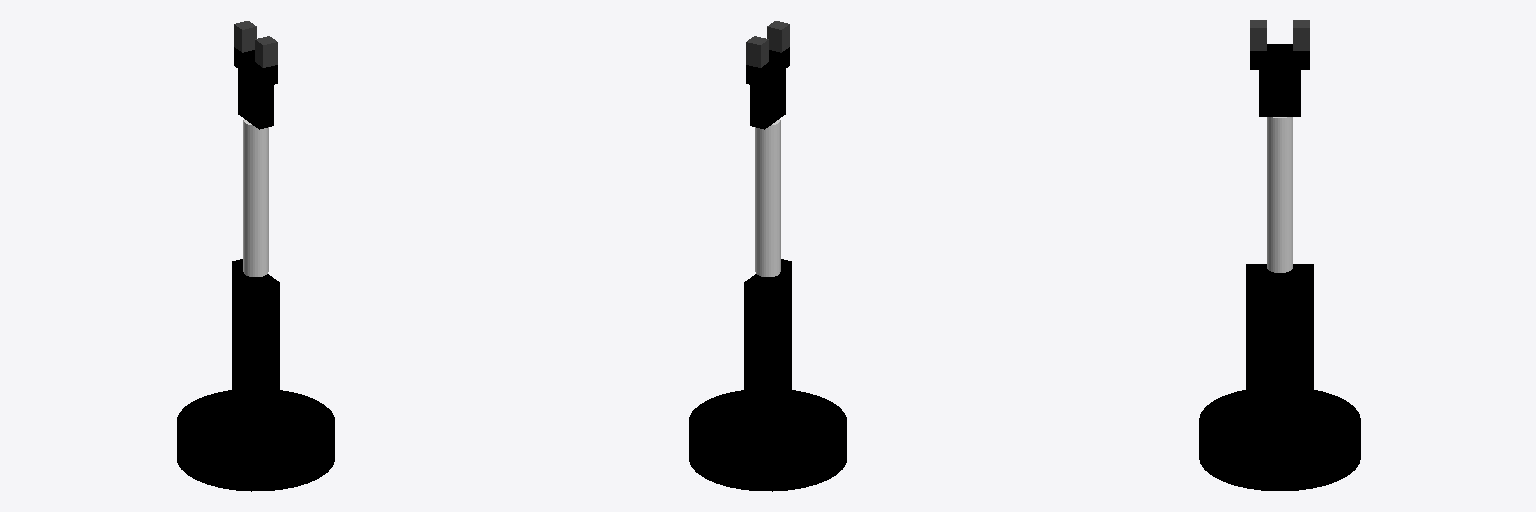
The robot description file, URDF, robot "al5d":
<?xml version="1.0"?>

<robot name="al5d">
    <static>false</static>

    <gazebo>
      <plugin name="gazebo_grasp_fix" filename="libgazebo_grasp_fix.so">
        <arm>
           <arm_name>al5d</arm_name>
           <palm_link> hand  </palm_link>
           <gripper_link> gripper_left </gripper_link>
           <gripper_link> gripper_right </gripper_link>
        </arm>
        <forces_angle_tolerance>90</forces_angle_tolerance>
        <update_rate>100</update_rate>
        <grip_count_threshold>1</grip_count_threshold>
        <max_grip_count>2</max_grip_count>
        <release_tolerance>0.005</release_tolerance>
        <disable_collisions_on_attach>false</disable_collisions_on_attach>
        <contact_topic>__default_topic__</contact_topic>
      </plugin>
    </gazebo>

    <!-- Link1 -->
    <gazebo reference="base_link">
        <material>Gazebo/Gold</material>
        <selfCollide>true</selfCollide>
        <gravity>false</gravity>
    </gazebo>

    <!-- Link2 -->
    <gazebo reference="turret">
        <mu1>0.2</mu1>
        <mu2>0.2</mu2>
        <selfCollide>true</selfCollide>
        <material>Gazebo/Black</material>
    </gazebo>

    <!-- Link3 -->
    <gazebo reference="upperarm">
        <mu1>0.2</mu1>
        <mu2>0.2</mu2>
        <selfCollide>true</selfCollide>
        <material>Gazebo/Black</material>
    </gazebo>

    <gazebo reference="forearm">
        <mu1>0.2</mu1>
        <mu2>0.2</mu2>
        <selfCollide>true</selfCollide>
        <material>Gazebo/Gold</material>
    </gazebo>

    <gazebo reference="wrist">
        <mu1>0.2</mu1>
        <mu2>0.2</mu2>
        <selfCollide>true</selfCollide>
        <material>Gazebo/Black</material>
    </gazebo>

    <gazebo reference="hand">
        <mu1>0.2</mu1>
        <mu2>0.2</mu2>
        <selfCollide>true</selfCollide>
        <material>Gazebo/Black</material>
    </gazebo>

    <gazebo reference="gripper_left">
        <mu1>0.2</mu1>
        <mu2>0.2</mu2>
        <selfCollide>true</selfCollide>
        <material>Gazebo/Gold</material>
    </gazebo>

    <gazebo reference="gripper_right">
        <mu1>0.2</mu1>
        <mu2>0.2</mu2>
        <selfCollide>true</selfCollide>
        <material>Gazebo/Gold</material>
    </gazebo>

    <gazebo reference="base_link2turret">
        <fudgeFactor value="0"/>
    </gazebo>

    <gazebo reference="turret2upperarm">
        <fudgeFactor value="0"/>
    </gazebo>

    <gazebo reference="upperarm2forearm">
        <fudgeFactor value="0"/>
    </gazebo>

    <gazebo reference="forearm2wrist">
        <fudgeFactor value="0"/>
    </gazebo>

    <link name="base_link">
        <visual>
            <geometry>
                <cylinder length="0.04" radius="0.095"/>
            </geometry>
            <material name="black">
                <color rgba="0 0 0 1"/>
            </material>
            <origin xyz="0 0 0.02" rpy="0 0 0"/>
        </visual>
        <collision>
            <geometry>
                <cylinder length="0.04" radius="0.095"/>
            </geometry>
            <origin xyz="0 0 0.02" rpy="0 0 0"/>
        </collision>
        <inertial>
            <grafity>0</grafity>
            <origin xyz="0 0 0" rpy="0 0 0"/>
            <mass value="1"/>
            <inertia
                    ixx="1.0" ixy="0.0" ixz="0.0"
                    iyy="1.0" iyz="0.0"
                    izz="1.0"/>
        </inertial>
    </link>

    <link name="turret">
        <visual>
            <geometry>
                <cylinder length="0.005" radius="0.095"/>
            </geometry>
            <material name="black"/>
        </visual>
        <collision>
            <geometry>
                <cylinder length="0.005" radius="0.095"/>
            </geometry>
        </collision>
        <inertial>
            <origin xyz="0 0 0" rpy="0 0 0"/>
            <mass value="1"/>
            <inertia
                    ixx="1.0" ixy="0.0" ixz="0.0"
                    iyy="1.0" iyz="0.0"
                    izz="1.0"/>
        </inertial>
    </link>

    <link name="upperarm">
        <visual>
            <geometry>
                <box size="0.02 0.08 0.18"/>
            </geometry>
            <origin xyz="0 0 0.09" rpy="0 0 0"/>
            <material name="black"/>
        </visual>
        <collision>
            <geometry>
                <box size="0.02 0.08 0.18"/>
            </geometry>
            <origin xyz="0 0 0.09" rpy="0 0 0"/>
        </collision>
        <inertial>
            <origin xyz="0 0 0" rpy="0 0 0"/>
            <mass value="1"/>
            <inertia
                    ixx="1.0" ixy="0.0" ixz="0.0"
                    iyy="1.0" iyz="0.0"
                    izz="1.0"/>
        </inertial>
    </link>

    <link name="forearm">
        <visual>
            <geometry>
                <cylinder length="0.20" radius="0.015"/>
            </geometry>
            <origin xyz="0 0 0.10" rpy="0 0 0"/>
            <material name="silver">
                <color rgba="0.9 0.9 0.9 1"/>
            </material>
        </visual>
        <collision>
            <geometry>
                <cylinder length="0.20" radius="0.015"/>
            </geometry>
            <origin xyz="0 0 0.10" rpy="0 0 0"/>
        </collision>
        <inertial>
            <origin xyz="0 0 0" rpy="0 0 0"/>
            <mass value="1"/>
            <inertia
                    ixx="1.0" ixy="0.0" ixz="0.0"
                    iyy="1.0" iyz="0.0"
                    izz="1.0"/>
        </inertial>
    </link>

    <link name="wrist">
        <visual>
            <geometry>
                <box size="0.02 0.05 0.06"/>
            </geometry>
            <origin xyz="0 0 0.03" rpy="0 0 0"/>
            <material name="black"/>
        </visual>
        <collision>
            <geometry>
                <box size="0.02 0.05 0.06"/>
            </geometry>
            <origin xyz="0 0 0.03" rpy="0 0 0"/>
        </collision>
        <inertial>
            <origin xyz="0 0 0" rpy="0 0 0"/>
            <mass value="1"/>
            <inertia
                    ixx="1.0" ixy="0.0" ixz="0.0"
                    iyy="1.0" iyz="0.0"
                    izz="1.0"/>
        </inertial>
    </link>

    <link name="hand">
        <visual>
            <geometry>
                <box size="0.02 0.07 0.025"/>
            </geometry>
            <origin xyz="0 0 0.0125" rpy="0 0 0"/>
            <material name="black"/>
        </visual>
        <collision>
            <geometry>
                <box size="0.02 0.07 0.025"/>
            </geometry>
            <origin xyz="0 0 0.0125" rpy="0 0 0"/>
        </collision>
        <inertial>
            <origin xyz="0 0 0" rpy="0 0 0"/>
            <mass value="1"/>
            <inertia
                    ixx="1.0" ixy="0.0" ixz="0.0"
                    iyy="1.0" iyz="0.0"
                    izz="1.0"/>
        </inertial>
    </link>

    <link name="gripper_left">
        <visual>
            <geometry>
                <box size="0.02 0.02 0.03"/>
            </geometry>
            <origin xyz="0 0 0" rpy="0 0 0"/>
            <material name="gray">
                <color rgba="0.3 0.3 0.3 1"/>
            </material>
        </visual>
        <collision>
            <geometry>
                <box size="0.02 0.02 0.03"/>
            </geometry>
            <origin xyz="0 0 0" rpy="0 0 0"/>
        </collision>
        <inertial>
            <origin xyz="0 0 0" rpy="0 0 0"/>
            <mass value="1"/>
            <inertia
                    ixx="1.0" ixy="0.0" ixz="0.0"
                    iyy="1.0" iyz="0.0"
                    izz="1.0"/>
        </inertial>
    </link>

    <link name="gripper_right">
        <visual>
            <geometry>
                <box size="0.02 0.02 0.03"/>
            </geometry>
            <origin xyz="0 0 0" rpy="0 0 0"/>
            <material name="gray"/>
        </visual>
        <collision>
            <geometry>
                <box size="0.02 0.02 0.03"/>
            </geometry>
            <origin xyz="0 0 0" rpy="0 0 0"/>
        </collision>
        <inertial>
            <origin xyz="0 0 0" rpy="0 0 0"/>
            <mass value="1"/>
            <inertia
                    ixx="1.0" ixy="0.0" ixz="0.0"
                    iyy="1.0" iyz="0.0"
                    izz="1.0"/>
        </inertial>
    </link>

    <joint name="base_link2turret" type="continuous">
        <parent link="base_link"/>
        <child link="turret"/>
        <origin xyz="0 0 0.045" rpy="0 0 0"/>
        <axis xyz="0 0 -1"/>
    </joint>
    <joint name="turret2upperarm" type="continuous">
        <parent link="turret"/>
        <child link="upperarm"/>
        <origin xyz="0 0 0.02" rpy="0 0 0"/>
        <axis xyz="0 1 0"/>
    </joint>
    <joint name="upperarm2forearm" type="continuous">
        <parent link="upperarm"/>
        <child link="forearm"/>
        <origin xyz="0 0 0.18" rpy="0 0 0"/>
        <axis xyz="0 1 0"/>
    </joint>
    <joint name="forearm2wrist" type="continuous">
        <parent link="forearm"/>
        <child link="wrist"/>
        <origin xyz="0 0 0.20" rpy="0 0 0"/>
        <axis xyz="0 -1 0"/>
    </joint>
    <joint name="wrist2hand" type="continuous">
        <parent link="wrist"/>
        <child link="hand"/>
        <origin xyz="0 0 0.06" rpy="0 0 0"/>
        <axis xyz="0 0 -1"/>
    </joint>
    <joint name="gripper_left2hand" type="prismatic">
        <parent link="hand"/>
        <child link="gripper_left"/>
        <origin xyz="0 0.025 0.04" rpy="0 0 0"/>
        <limit effort="1000.0" lower="-0.02" upper="0.02" velocity="0.5"/>
        <axis xyz="0 -1 0"/>
    </joint>
    <joint name="gripper_right2hand" type="prismatic">
        <parent link="hand"/>
        <child link="gripper_right"/>
        <origin xyz="0 -0.025 0.04" rpy="0 0 0"/>
        <limit effort="1000.0" lower="-0.02" upper="0.02" velocity="0.5"/>
        <axis xyz="0 1 0"/>
        <mimic joint="gripper_left2hand" multiplier="1" offset="0"/>
    </joint>
    <link name="world"/>
    <joint name="fixed" type="fixed">
        <parent link="world"/>
        <child link="base_link"/>
    </joint>

    <gazebo>
        <plugin name="robot_simulation" filename="libsim_robot_plugin.so">
            <joint_info name="base_link2turret" channel="0">
                <min_pw>800</min_pw>
                <max_pw>2400</max_pw>
                <min_rad>-1.57</min_rad>
                <max_rad>1.57</max_rad>
                <max_vel>2</max_vel>
            </joint_info>
            <joint_info name="turret2upperarm" channel="1">
                <min_pw>725</min_pw>
                <max_pw>1850</max_pw>
                <min_rad>1.57</min_rad>
                <max_rad>-0.52</max_rad>
                <max_vel>2</max_vel>
            </joint_info>
            <joint_info name="upperarm2forearm" channel="2">
                <min_pw>700</min_pw>
                <max_pw>1900</max_pw>
                <min_rad>0</min_rad>
                <max_rad>2.36</max_rad>
                <max_vel>2</max_vel>
            </joint_info>
            <joint_info name="forearm2wrist" channel="3">
                <min_pw>610</min_pw>
                <max_pw>2480</max_pw>
                <min_rad>-1.57</min_rad>
                <max_rad>1.57</max_rad>
                <max_vel>2</max_vel>
            </joint_info>
            <joint_info name="wrist2hand" channel="5">
                <min_pw>500</min_pw>
                <max_pw>2400</max_pw>
                <min_rad>-1.57</min_rad>
                <max_rad>1.57</max_rad>
                <max_vel>2</max_vel>
            </joint_info>
            <joint_info name="gripper_left2hand" channel="4">
                <min_pw>500</min_pw>
                <max_pw>2500</max_pw>
        	<min_rad>-0.01975</min_rad>
        	<max_rad>0.01975</max_rad>
        	<max_vel>2.870</max_vel>
            </joint_info>
        </plugin>
    </gazebo>
   
   <gazebo>
     <plugin name="mimic_joint_plugin_gripper" filename="libroboticsgroup_gazebo_mimic_joint_plugin.so">
       <joint>gripper_left2hand</joint>
       <mimicJoint>gripper_right2hand</mimicJoint>
     </plugin>
  </gazebo>

</robot>

--- Facts derived from the render (not from the file) ---
The picture shows the robot from 3 angles, left to right: view 1: azimuth 30°, elevation 25°; view 2: azimuth 150°, elevation 25°; view 3: azimuth 270°, elevation 25°; orthographic projection.
Robot: al5d — 9 links, 8 joints (5 continuous, 2 prismatic, 1 fixed); root link world; default pose: every joint at zero.
Links seen in each view (by area): view 1: turret, upperarm, base_link, forearm, wrist, hand, gripper_right, gripper_left; view 2: turret, upperarm, base_link, forearm, wrist, hand, gripper_left, gripper_right; view 3: upperarm, turret, base_link, forearm, wrist, hand, gripper_left, gripper_right.
Boxes of the visible links, box(x1,y1,x2,y2) form: turret: box(177, 390, 334, 458); upperarm: box(232, 259, 279, 422); base_link: box(177, 430, 334, 491); forearm: box(243, 119, 268, 276); wrist: box(238, 69, 273, 129); hand: box(234, 47, 277, 86); gripper_right: box(255, 36, 277, 67); gripper_left: box(234, 21, 256, 52); turret: box(689, 390, 846, 458); upperarm: box(744, 259, 791, 422); base_link: box(689, 430, 846, 491); forearm: box(755, 119, 780, 276); wrist: box(750, 69, 785, 129); hand: box(746, 47, 789, 86); gripper_left: box(746, 36, 768, 67); gripper_right: box(767, 21, 789, 52); upperarm: box(1246, 264, 1313, 410); turret: box(1199, 390, 1360, 458); base_link: box(1199, 427, 1360, 490); forearm: box(1267, 117, 1292, 272); wrist: box(1259, 70, 1300, 116); hand: box(1250, 44, 1309, 69); gripper_left: box(1293, 20, 1309, 50); gripper_right: box(1250, 20, 1266, 50).
Size in the robot's own frame: 0.19 by 0.19 by 0.56 metres.
Geometry: primitives only (box / cylinder / sphere), no mesh files.